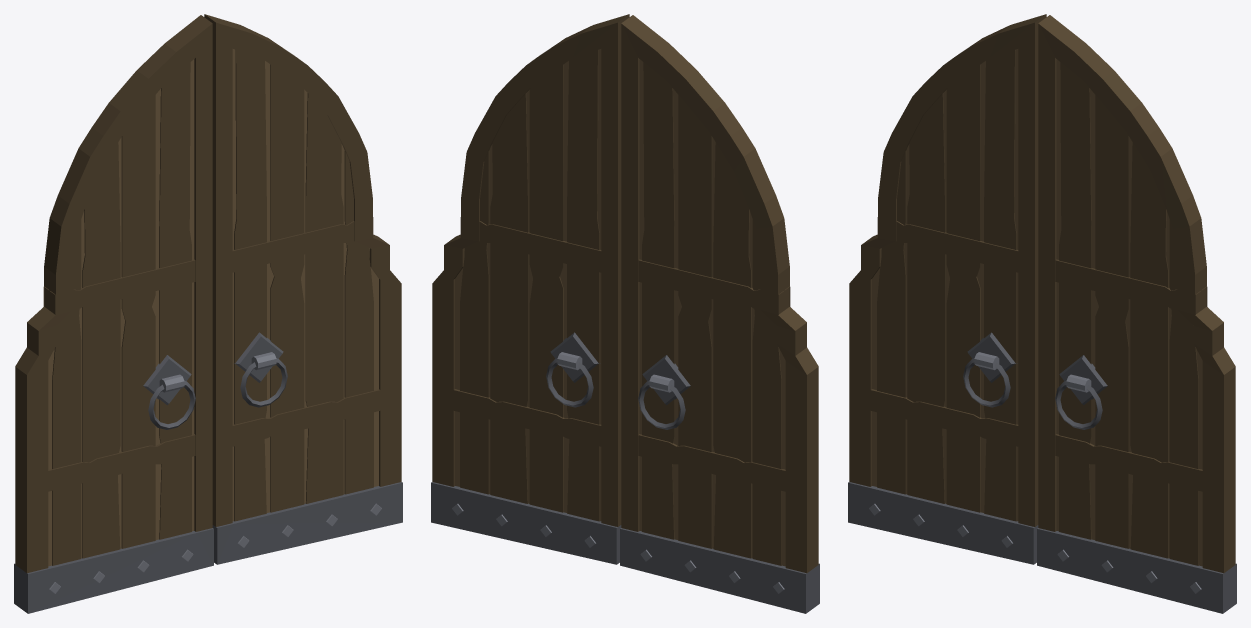
Rendered from Doors_GothicArch.glb.
3 views of the same model, side by side, from view 1: azimuth 30°, elevation 25°; view 2: azimuth 150°, elevation 25°; view 3: azimuth 330°, elevation 25° (orthographic).
Visible parts, largest first — view 1: Doors_GothicArch_L, Doors_GothicArch_R; view 2: Doors_GothicArch_L, Doors_GothicArch_R; view 3: Doors_GothicArch_R, Doors_GothicArch_L.
Boxes of the visible parts, box(x1,y1,x2,y2) form: Doors_GothicArch_L: box(14, 15, 213, 613); Doors_GothicArch_R: box(204, 14, 402, 564); Doors_GothicArch_L: box(620, 15, 819, 613); Doors_GothicArch_R: box(431, 14, 629, 564); Doors_GothicArch_R: box(1037, 15, 1236, 613); Doors_GothicArch_L: box(848, 14, 1046, 564).
Size of the model in its own units: 2.31 by 3.21 by 0.2743.
